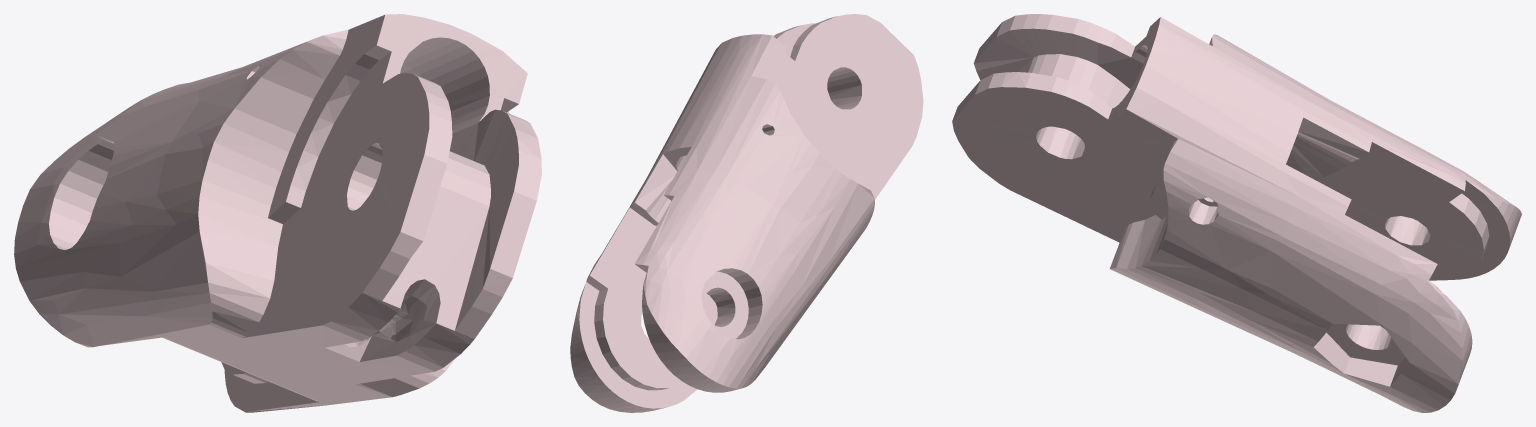
The model's file is i02_leftHand_indexMid_visual.obj.light.glb.
3 views of the same model, side by side, from view 1: azimuth 30°, elevation 25°; view 2: azimuth 150°, elevation 25°; view 3: azimuth 270°, elevation 25° (orthographic). The views are drawn at different scales.
Size of the model in its own units: 0.177 by 0.2842 by 0.3928.
